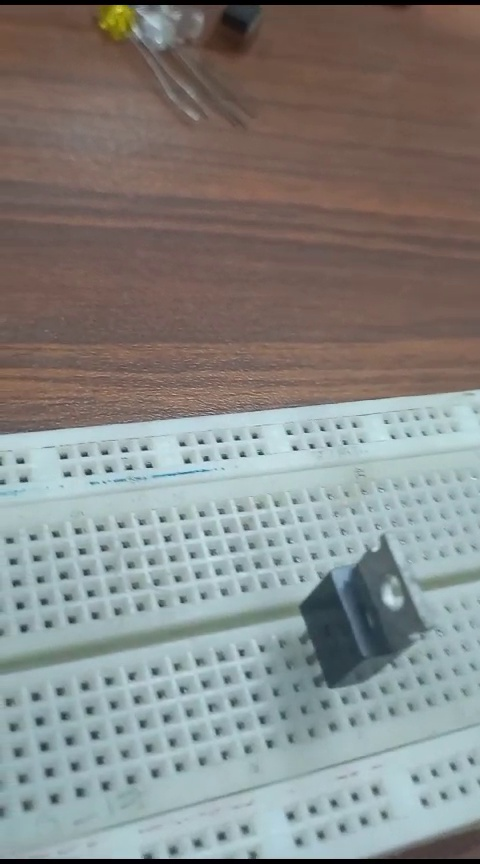voltage regulator: (302, 533, 429, 701)
